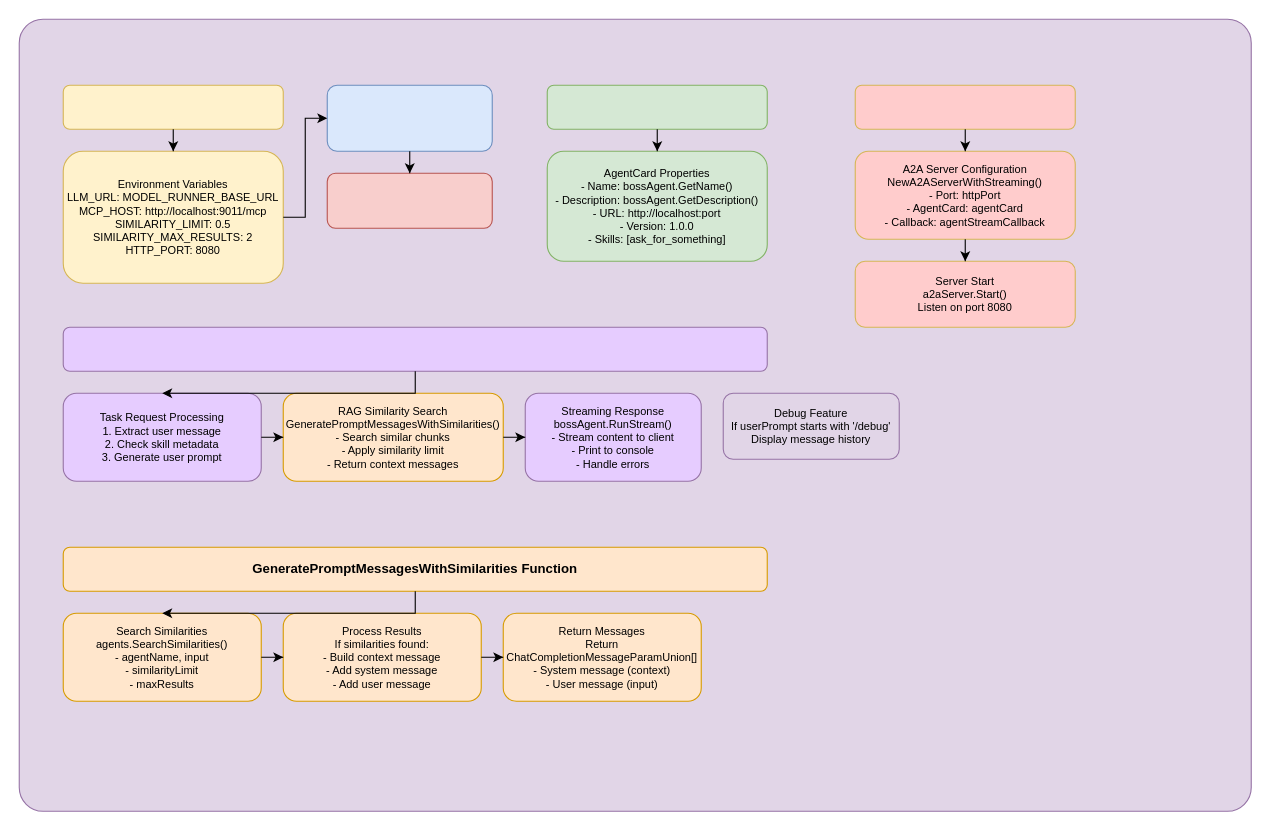
This 1271x831 diagram has some shape labels left out. Each missing label, with the box of its shape:
A2A Agent Card Setup: (546, 84, 767, 129)
A2A Server Setup: (854, 84, 1075, 129)
Agent Streaming Callback: (62, 326, 767, 371)
Boss Agent Creation agents.GetBossAgent(ctx, client): (326, 172, 492, 228)
Configuration Setup: (62, 84, 283, 129)
OpenAI Client Setup Base URL: llmURL API Key: empty: (326, 84, 492, 151)
